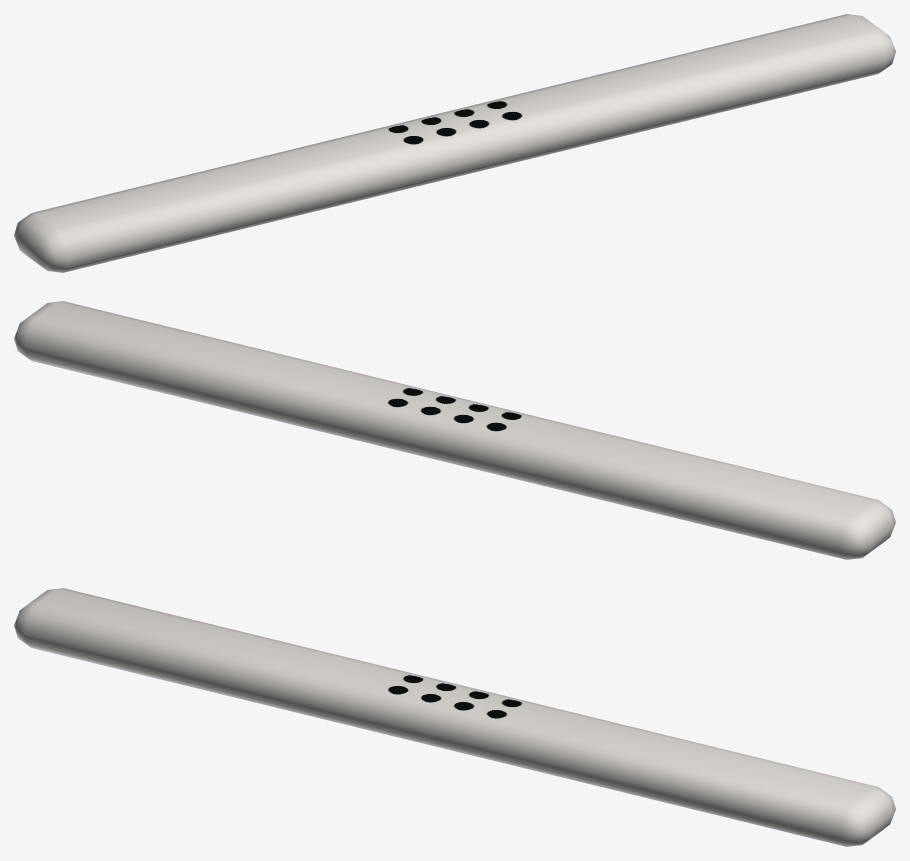
The picture shows the model from 3 angles, top to bottom: view 1: azimuth 30°, elevation 25°; view 2: azimuth 150°, elevation 25°; view 3: azimuth 330°, elevation 25°; orthographic projection.
Visible parts, largest first — view 1: tenbou; view 2: tenbou; view 3: tenbou.
Part boxes in pixels (box(x1,y1,x2,y2)): tenbou: box(14, 14, 895, 272); tenbou: box(14, 301, 895, 559); tenbou: box(14, 588, 895, 846).
Size of the model in its own units: 17 by 0.8 by 1.5.
